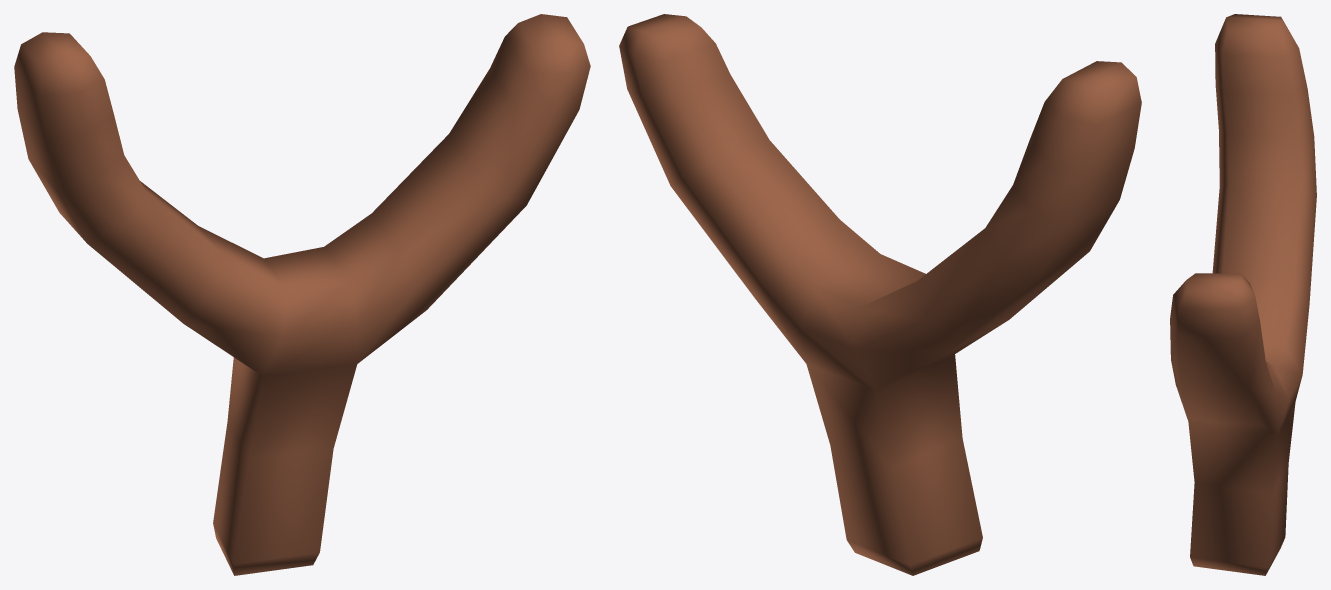
The model's file is Shrub_Btm_B_02_LOD2.gltf.
3 renders of one model, left to right at view 1: azimuth 30°, elevation 25°; view 2: azimuth 150°, elevation 25°; view 3: azimuth 270°, elevation 25°, orthographic. The views are drawn at different scales.
Visible parts, largest first — view 1: Shrub_Btm_B_02_LOD2_Cylinder.682; view 2: Shrub_Btm_B_02_LOD2_Cylinder.682; view 3: Shrub_Btm_B_02_LOD2_Cylinder.682.
Boxes of the visible parts, x1,y1,x2,y2 form: Shrub_Btm_B_02_LOD2_Cylinder.682: [14, 14, 590, 575]; Shrub_Btm_B_02_LOD2_Cylinder.682: [619, 14, 1141, 575]; Shrub_Btm_B_02_LOD2_Cylinder.682: [1170, 14, 1316, 575].
Size of the model in its own units: 3.55 by 3.49 by 1.02.
1 material, 1 textured.
